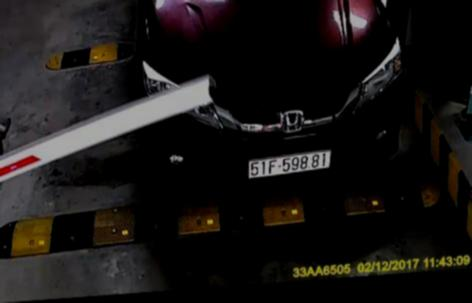License_Plate: (245, 145, 332, 182)
